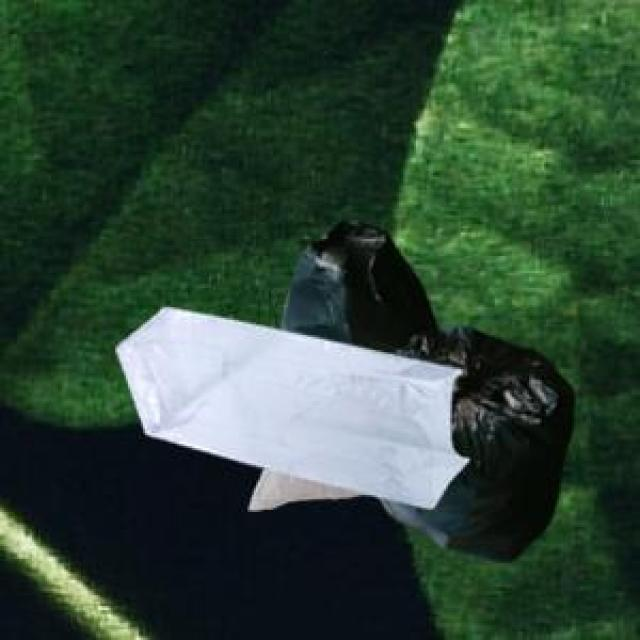miscellaneous trash: (277, 216, 570, 557)
